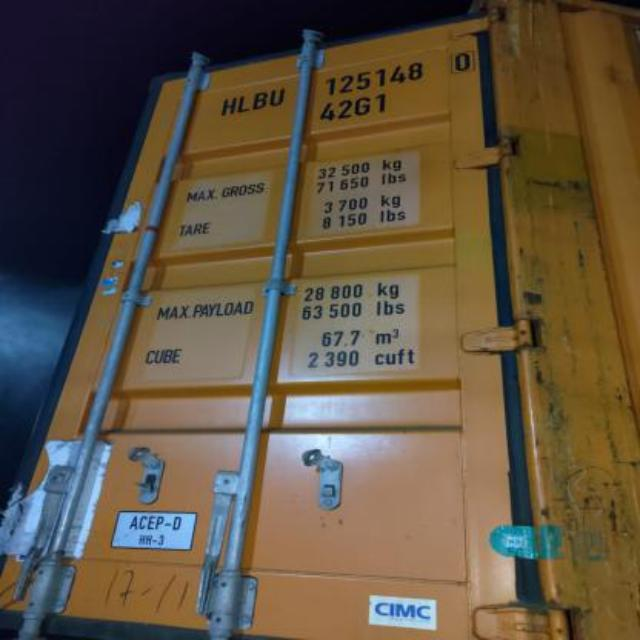0: (448, 50, 476, 76)
1: (374, 62, 388, 88), (326, 72, 338, 100)
2: (338, 64, 352, 98)
4: (389, 60, 407, 90)
5: (354, 61, 370, 93)
8: (407, 56, 423, 88)
B: (250, 86, 268, 118)
H: (219, 92, 237, 121)
L: (234, 90, 250, 120)
U: (267, 83, 283, 113)
